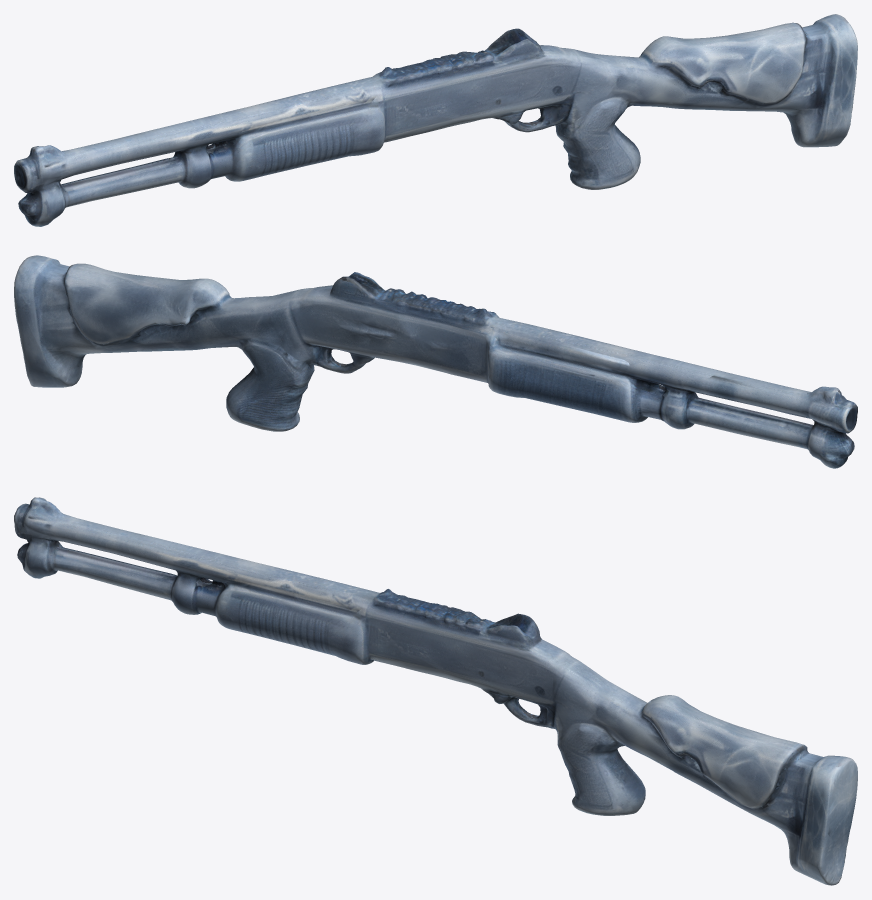
Rendered from Benelli_M4_Ice.fbx.
3 views of the same model, one above another, from view 1: azimuth 30°, elevation 25°; view 2: azimuth 150°, elevation 25°; view 3: azimuth 330°, elevation 25° (orthographic).
Visible parts, largest first — view 1: Mesh_0; view 2: Mesh_0; view 3: Mesh_0.
Part boxes in pixels (x1,y1,x2,y2): Mesh_0: (14, 14, 857, 226); Mesh_0: (14, 255, 857, 468); Mesh_0: (14, 497, 857, 885).
Bounding box in the file's own units: 200 × 44.45 × 13.08.
1 material, 1 textured.
